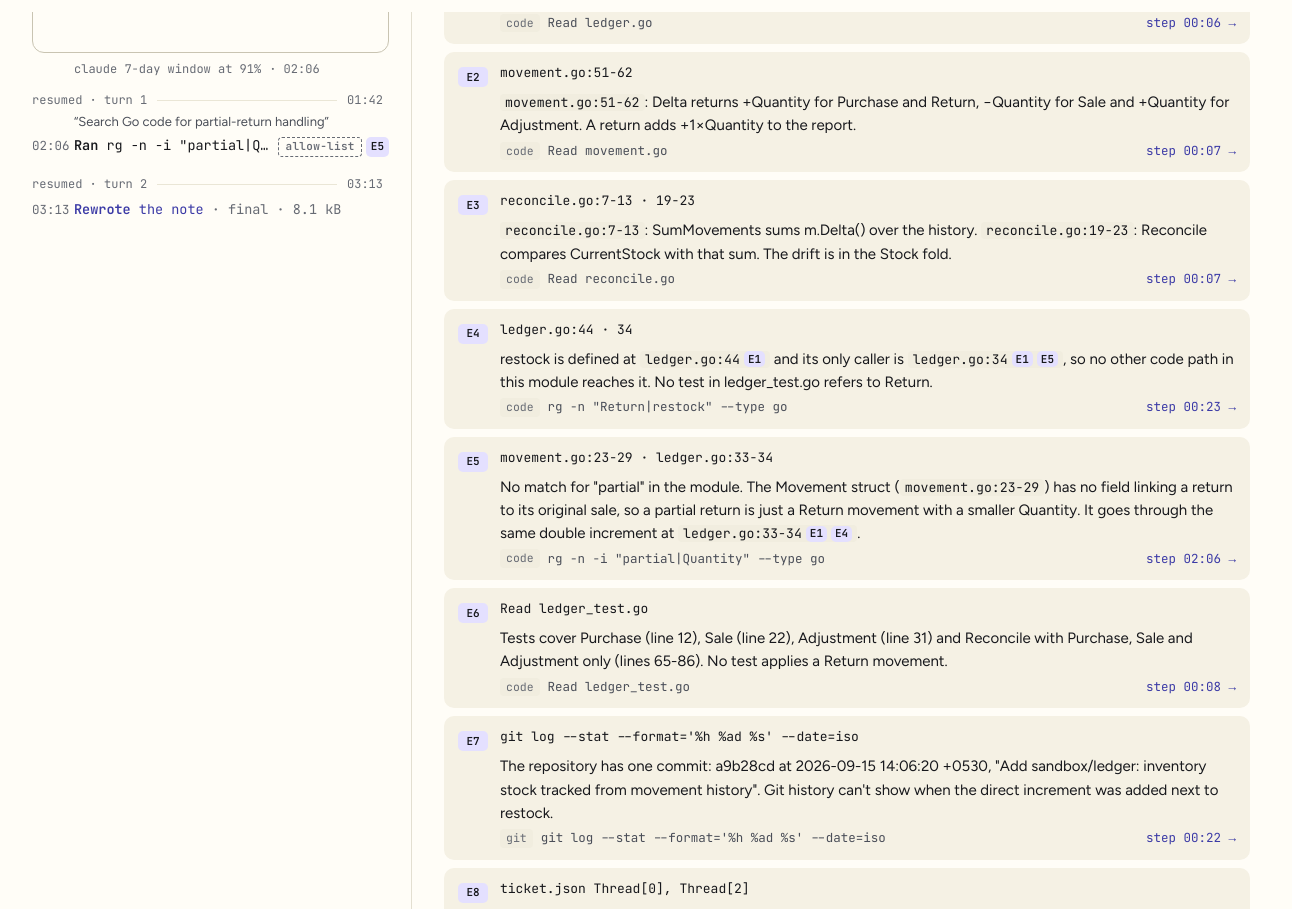
S3 · a step expanded and its twin lit › clicking E5 in the document opens the rg step on the path and lights both chips; the table row it cites is hit
(page scrolled)
What coordinates should you click on to do the following:
click the button named "Marker E5"
I would click on:
 (473, 462)
Its box is [458,452,488,472].
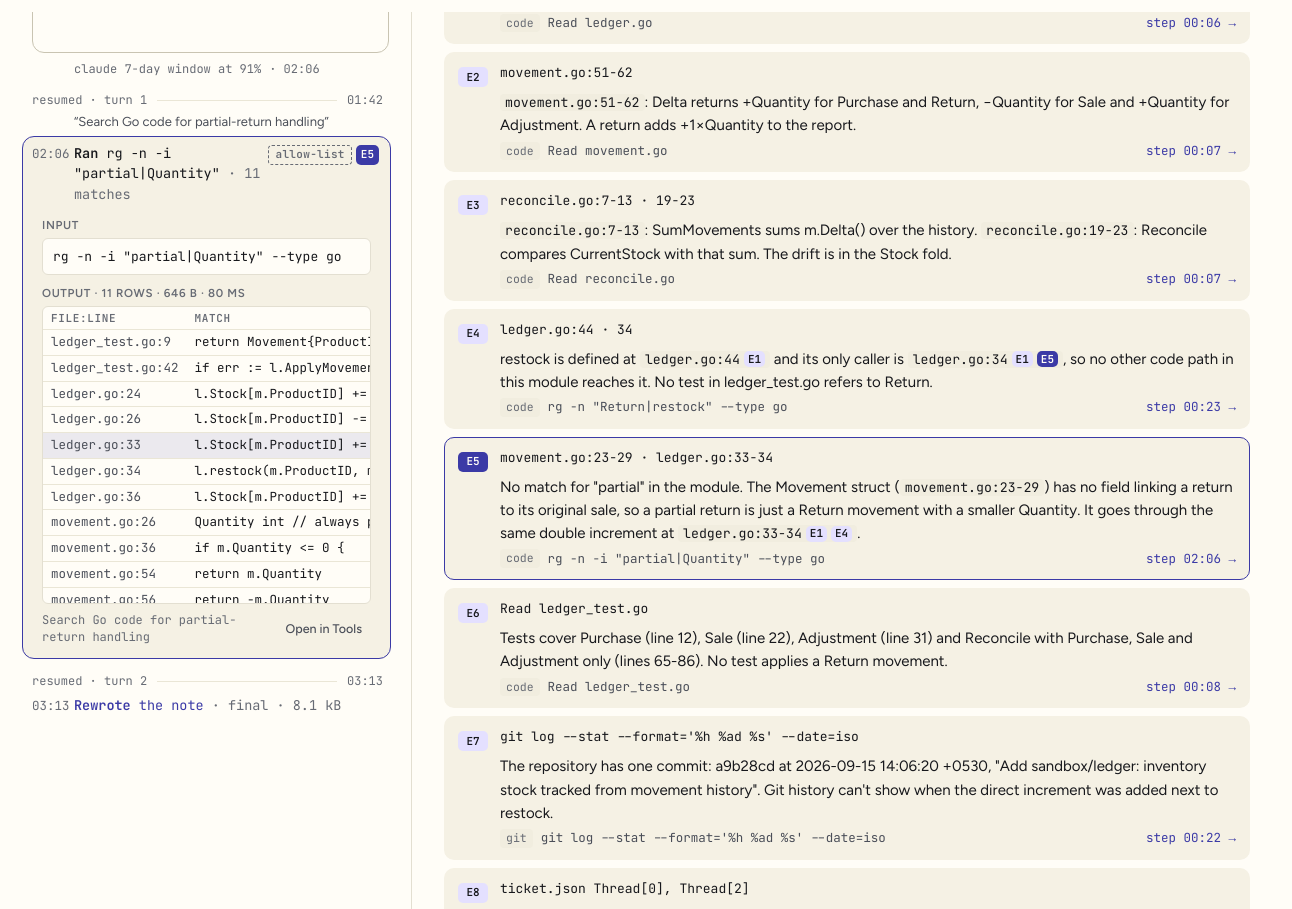
Now the button "rg -n -i \"partial|Quantity\"" is expanded, box [22,140,391,207]
